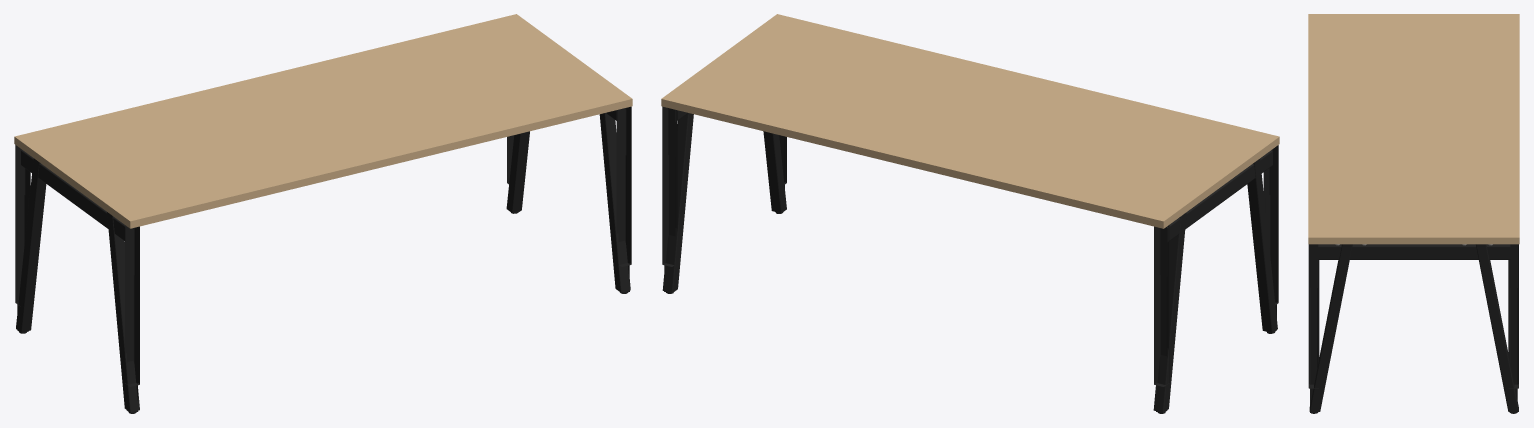
Rendered from desks.glb.
3 views of the same model, side by side, from view 1: azimuth 30°, elevation 25°; view 2: azimuth 150°, elevation 25°; view 3: azimuth 270°, elevation 25° (orthographic). The views are drawn at different scales.
Parts seen in each view (by area): view 1: OgiM_oak, OgiM_frame, OgiY_frame, OgiY_oak; view 2: OgiM_oak, OgiM_frame, OgiY_frame, OgiY_oak; view 3: OgiM_oak, OgiY_frame, OgiM_frame, OgiY_oak.
Boxes of the visible parts, left/top/right/bottom form: OgiM_oak: left=14, top=14, right=632, bottom=228; OgiM_frame: left=16, top=112, right=630, bottom=412; OgiY_frame: left=15, top=106, right=631, bottom=413; OgiY_oak: left=15, top=102, right=632, bottom=228; OgiM_oak: left=661, top=14, right=1279, bottom=228; OgiM_frame: left=662, top=112, right=1277, bottom=412; OgiY_frame: left=662, top=106, right=1278, bottom=413; OgiY_oak: left=661, top=99, right=1279, bottom=228; OgiM_oak: left=1308, top=14, right=1519, bottom=244; OgiY_frame: left=1308, top=244, right=1518, bottom=413; OgiM_frame: left=1309, top=244, right=1518, bottom=413; OgiY_oak: left=1308, top=237, right=1519, bottom=244.
Bounding box in the file's own units: 2 × 0.7401 × 0.7999.
